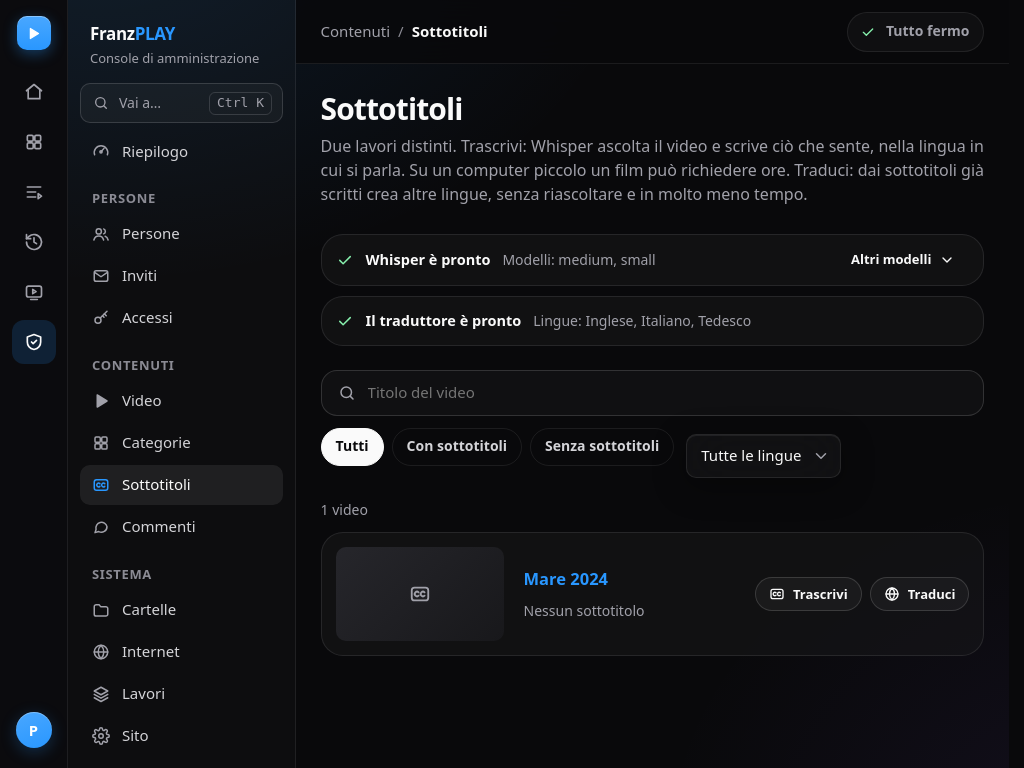
subtitles page › fills in the language it knows, and warns when the file disagrees
This screenshot has width=1024, height=768.
Check: the list named "Video" is shown, box 321,532 -> 984,656
Click the button "Trascrivi" at (808, 594), box 755,577 -> 862,611
(page scrolled)
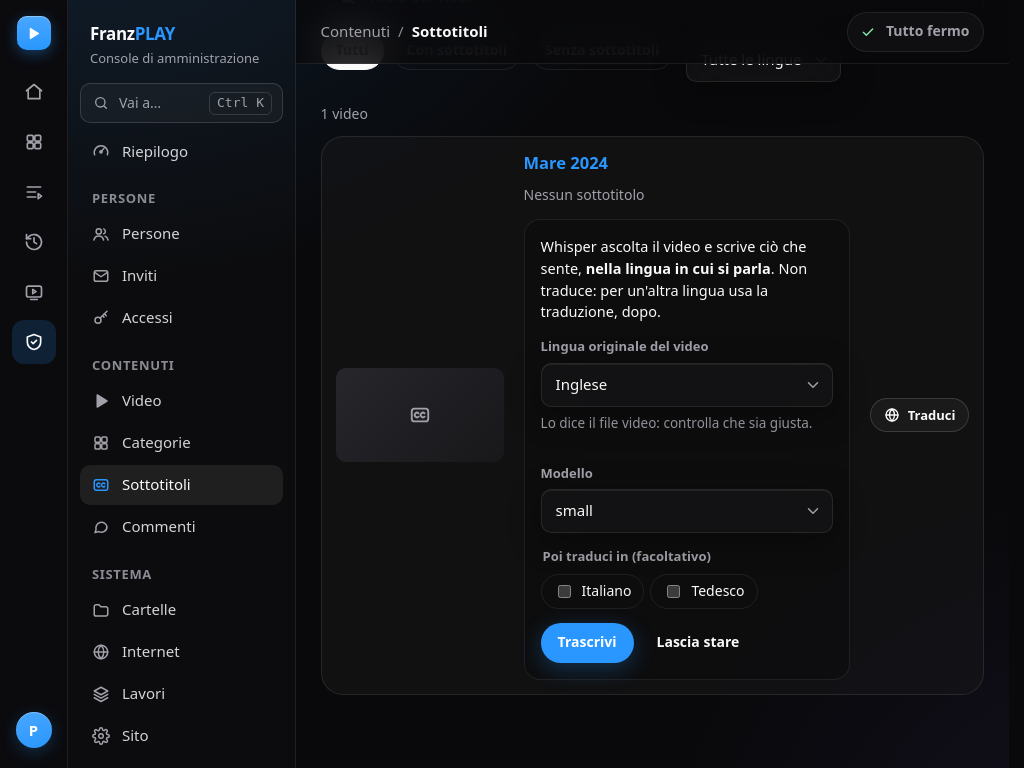
Check: the dropdown named "Lingua originale del video" reads "Inglese"
Check: the form named "Trascrivi Mare 2024" shows "Lo dice il file video", box 541,414 -> 812,432
Click the dropdown named "Lingua originale del video" at (581, 384), box 541,363 -> 833,407
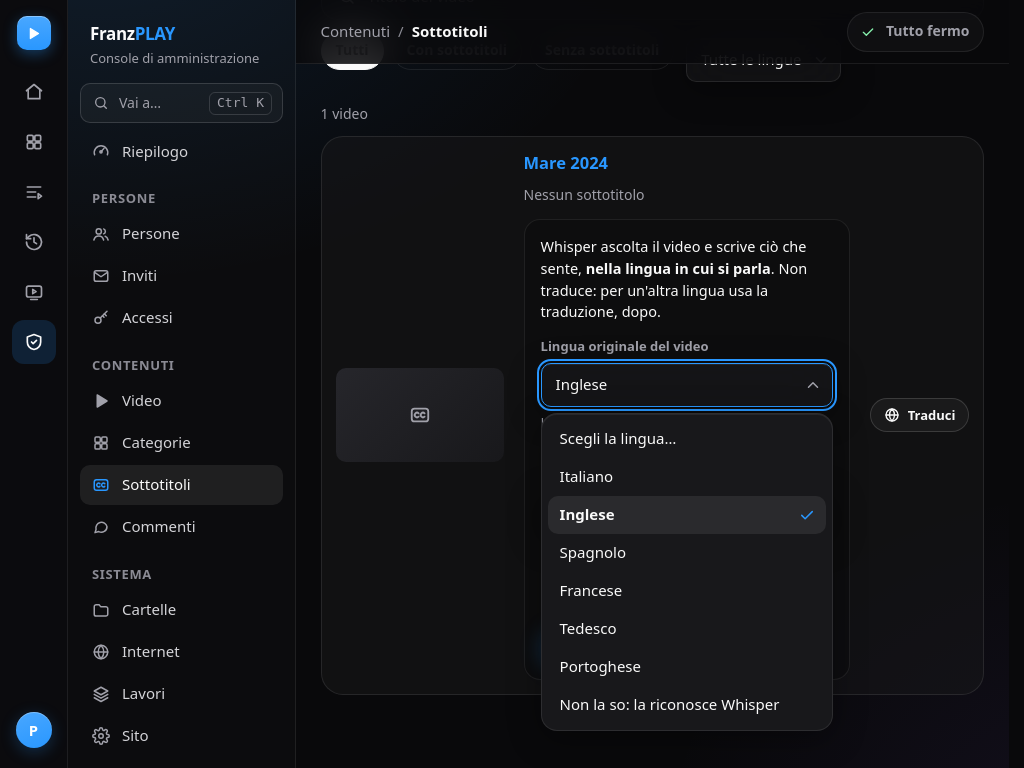
Click the option "Italiano" at (586, 476), box 560,466 -> 613,486
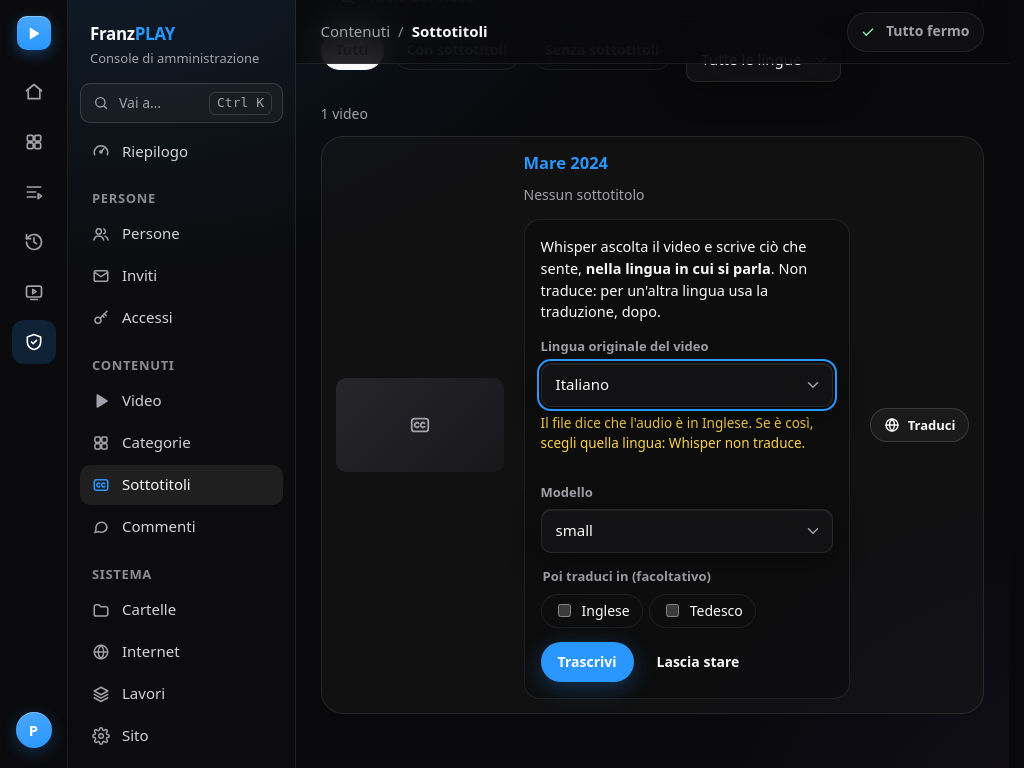
Check: the form named "Trascrivi Mare 2024" shows "Il file dice che l'audio è in Inglese", box 524,219 -> 850,699
